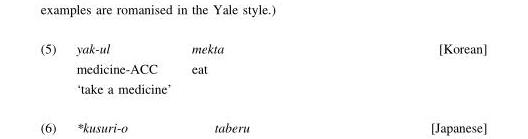table: (39, 39, 486, 97)
table column: (330, 39, 486, 97), (181, 39, 330, 97), (65, 39, 181, 97), (39, 39, 65, 97)
table row: (39, 57, 486, 77), (39, 77, 486, 97), (39, 39, 486, 57)
table spanning cell: (39, 39, 65, 97)
